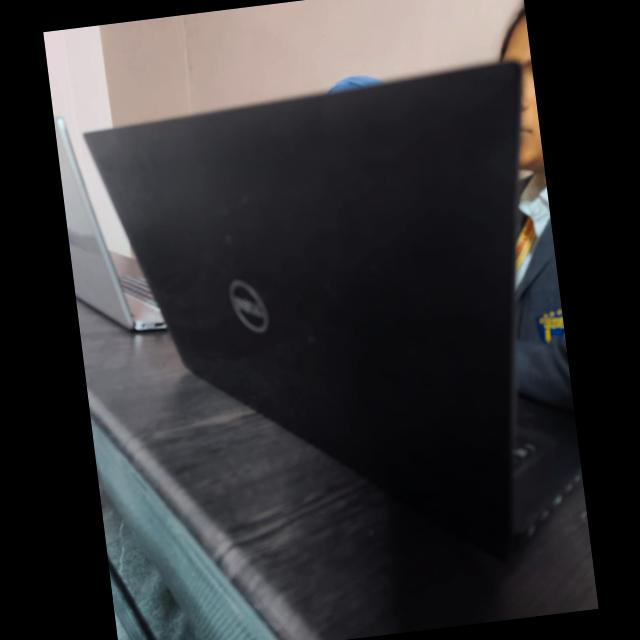laptop: (60, 56, 590, 599)
